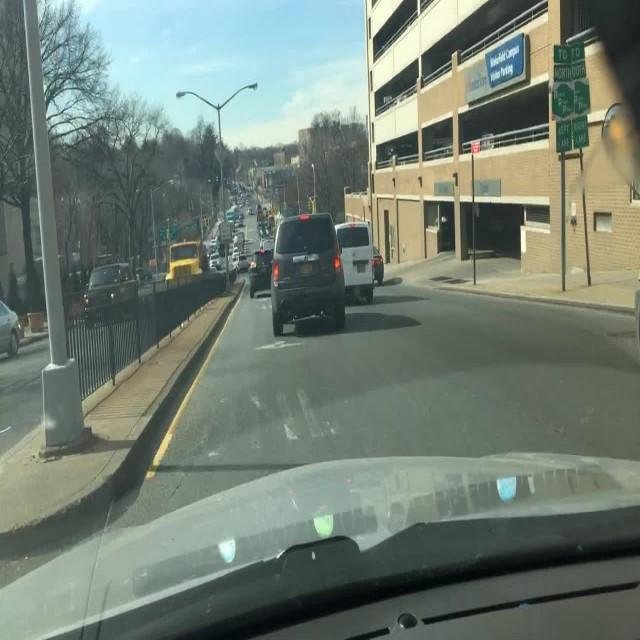normal: (268, 214, 380, 338)
